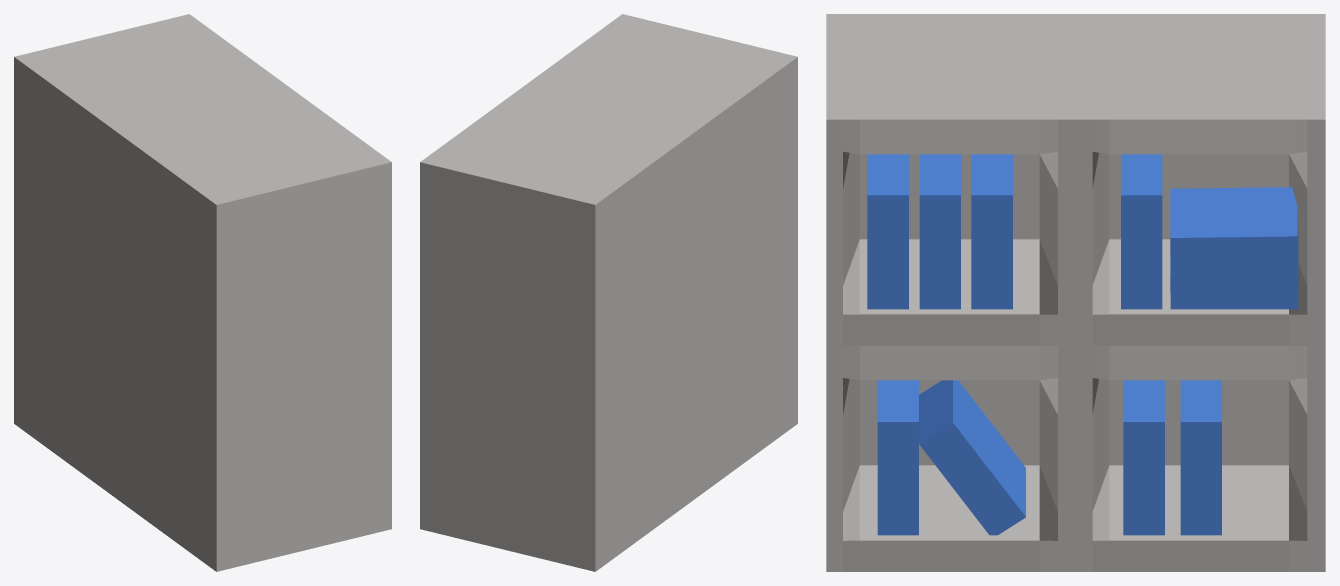
Rendered from cabinet.fbx.
3 renders of one model, left to right at view 1: azimuth 30°, elevation 25°; view 2: azimuth 150°, elevation 25°; view 3: azimuth 270°, elevation 25°, orthographic. The views are drawn at different scales.
Visible parts, largest first — view 1: Cube; view 2: Cube; view 3: Cube, book.006, book.003, book.001, book.002, book.008, book, book.004, book.005, book.009, book.007.
Part boxes in pixels (x1,y1,x2,y2): Cube: (14,14,391,571); Cube: (420,14,797,571); Cube: (826,14,1325,571); book.006: (1170,187,1298,275); book.003: (919,380,1025,535); book.001: (867,154,908,309); book.002: (971,154,1012,309); book.008: (1123,380,1164,535); book: (919,154,960,309); book.004: (877,380,918,535); book.005: (1121,154,1162,309); book.009: (1180,380,1221,535); book.007: (1170,255,1298,309).
Bounding box in the file's own units: 202 × 400 × 400.
